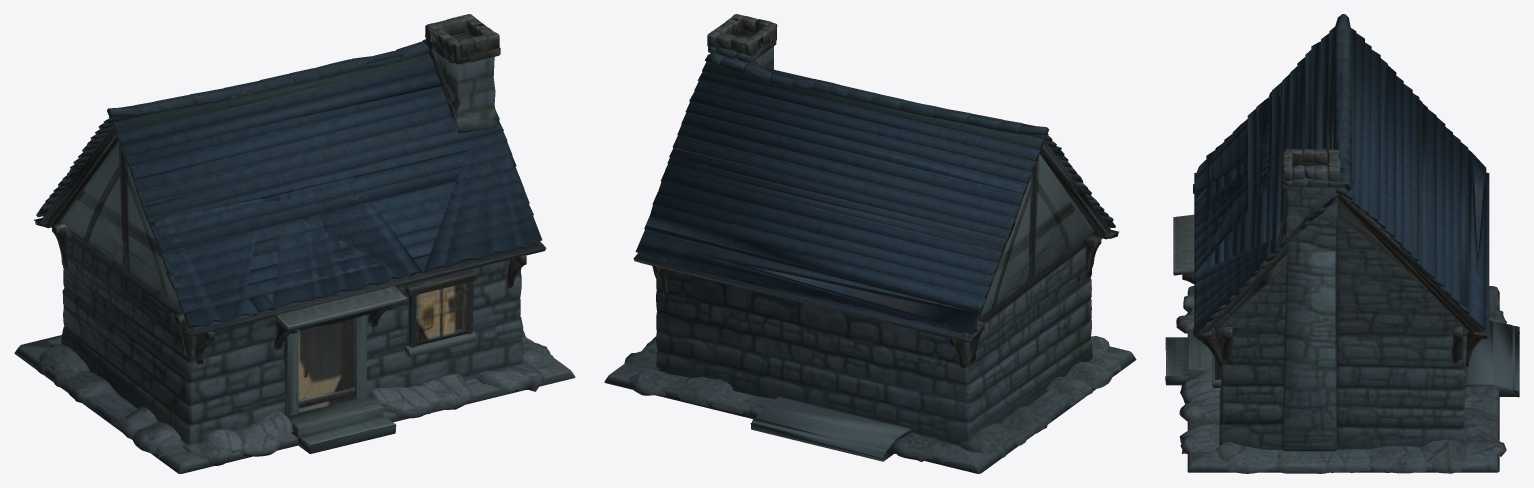
The model's file is house-cottage.glb.
The picture shows the model from 3 angles, left to right: view 1: azimuth 30°, elevation 25°; view 2: azimuth 150°, elevation 25°; view 3: azimuth 270°, elevation 25°; orthographic projection. The views are drawn at different scales.
Bounding box in the file's own units: 0.9492 × 0.7026 × 0.7676.
Materials: 1 (1 with a texture image).
